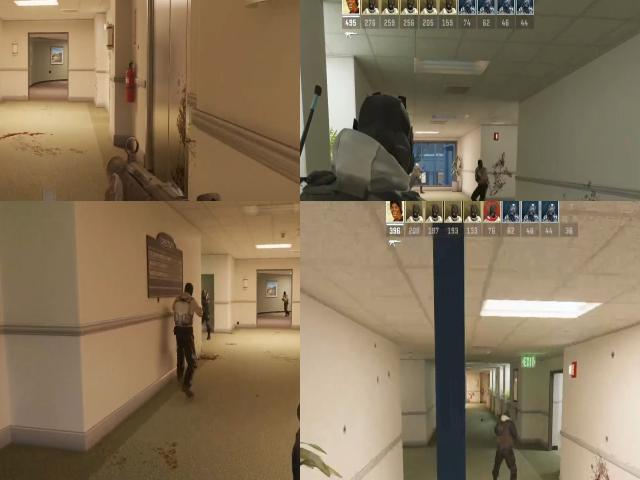CT: (492, 409, 517, 467), (202, 288, 213, 331)
CT-Head: (324, 78, 419, 201), (499, 408, 512, 430), (202, 286, 209, 298)
T: (174, 285, 197, 339), (472, 153, 492, 192), (282, 289, 288, 313)
T-Head: (181, 281, 196, 301), (472, 156, 488, 172)
